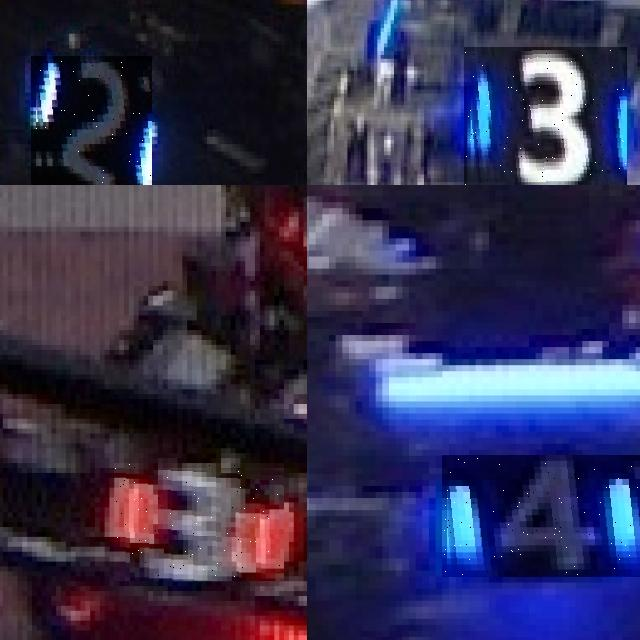B2: (30, 56, 152, 185)
B3: (463, 47, 627, 185)
B4: (442, 455, 640, 576)
R3: (114, 463, 284, 581)
